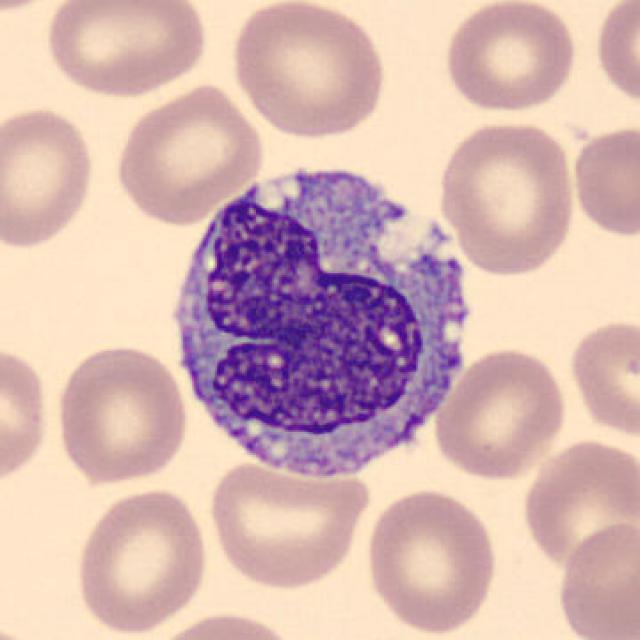Monocyte: (156, 146, 482, 488)
RBC: (434, 116, 580, 277), (226, 0, 391, 141), (110, 80, 267, 228), (204, 457, 373, 592), (71, 485, 212, 636), (361, 485, 501, 636), (52, 341, 192, 488), (432, 344, 571, 483), (40, 0, 211, 100), (518, 434, 638, 574), (439, 0, 580, 115), (0, 102, 98, 254), (553, 518, 638, 640), (566, 314, 638, 442), (567, 120, 638, 240), (0, 340, 53, 491), (590, 0, 638, 113), (144, 608, 306, 640)
